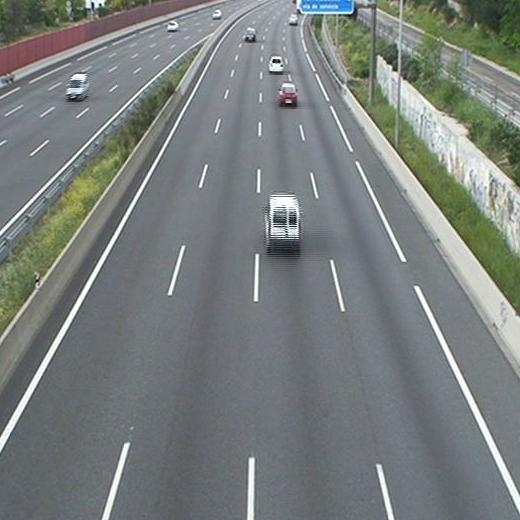car: (278, 82, 298, 108), (268, 56, 284, 72), (244, 28, 257, 43)
van: (265, 192, 300, 256)
